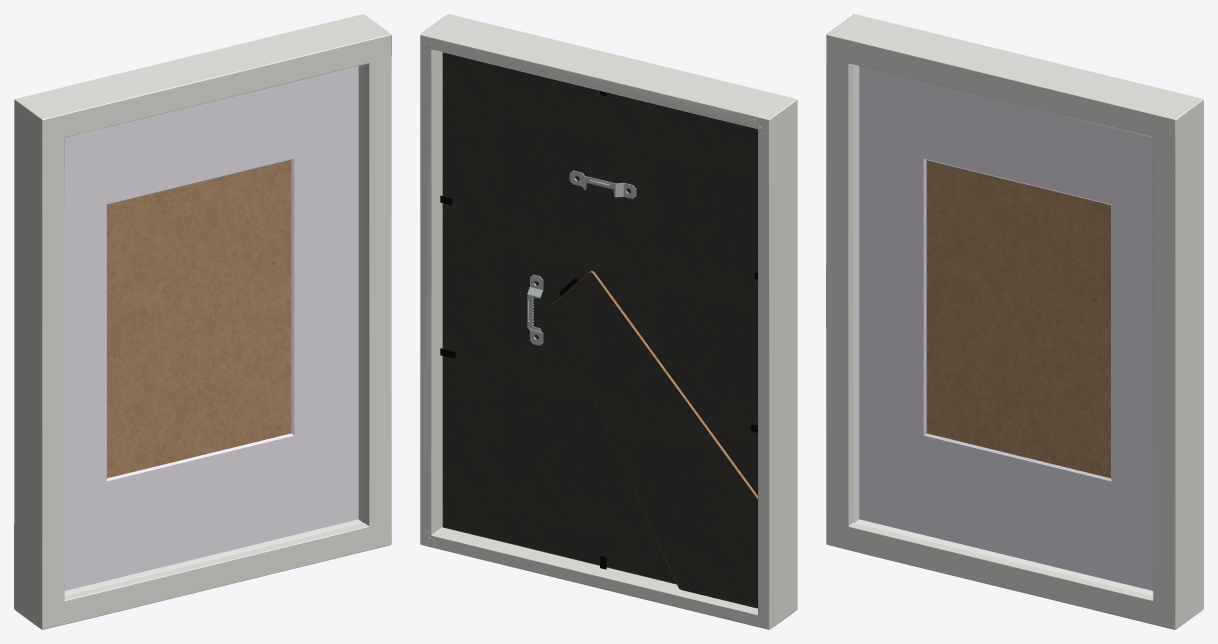
The model's file is rodalm_ramka_10548886.glb.
3 views of the same model, side by side, from view 1: azimuth 30°, elevation 25°; view 2: azimuth 150°, elevation 25°; view 3: azimuth 330°, elevation 25° (orthographic).
Parts seen in each view (by area): view 1: rodalm_ramka_10548886; view 2: rodalm_ramka_10548886; view 3: rodalm_ramka_10548886.
Part boxes in pixels (x1,y1,x2,y2): rodalm_ramka_10548886: (14, 14, 391, 629); rodalm_ramka_10548886: (420, 14, 797, 629); rodalm_ramka_10548886: (826, 14, 1203, 629).
Size of the model in its own units: 0.228 by 0.318 by 0.0322.
2 materials, 2 textured.
